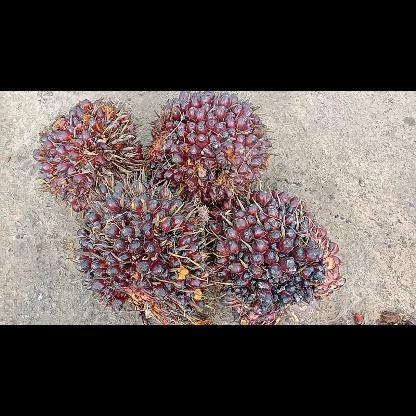Kurang masak: (76, 166, 220, 324), (208, 180, 348, 324), (30, 95, 146, 212)
TBS masak: (142, 90, 276, 206)
